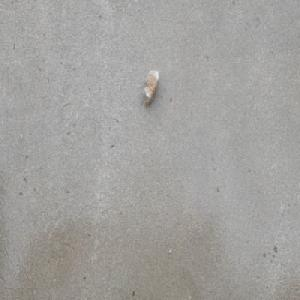Rock: (142, 67, 160, 106)
